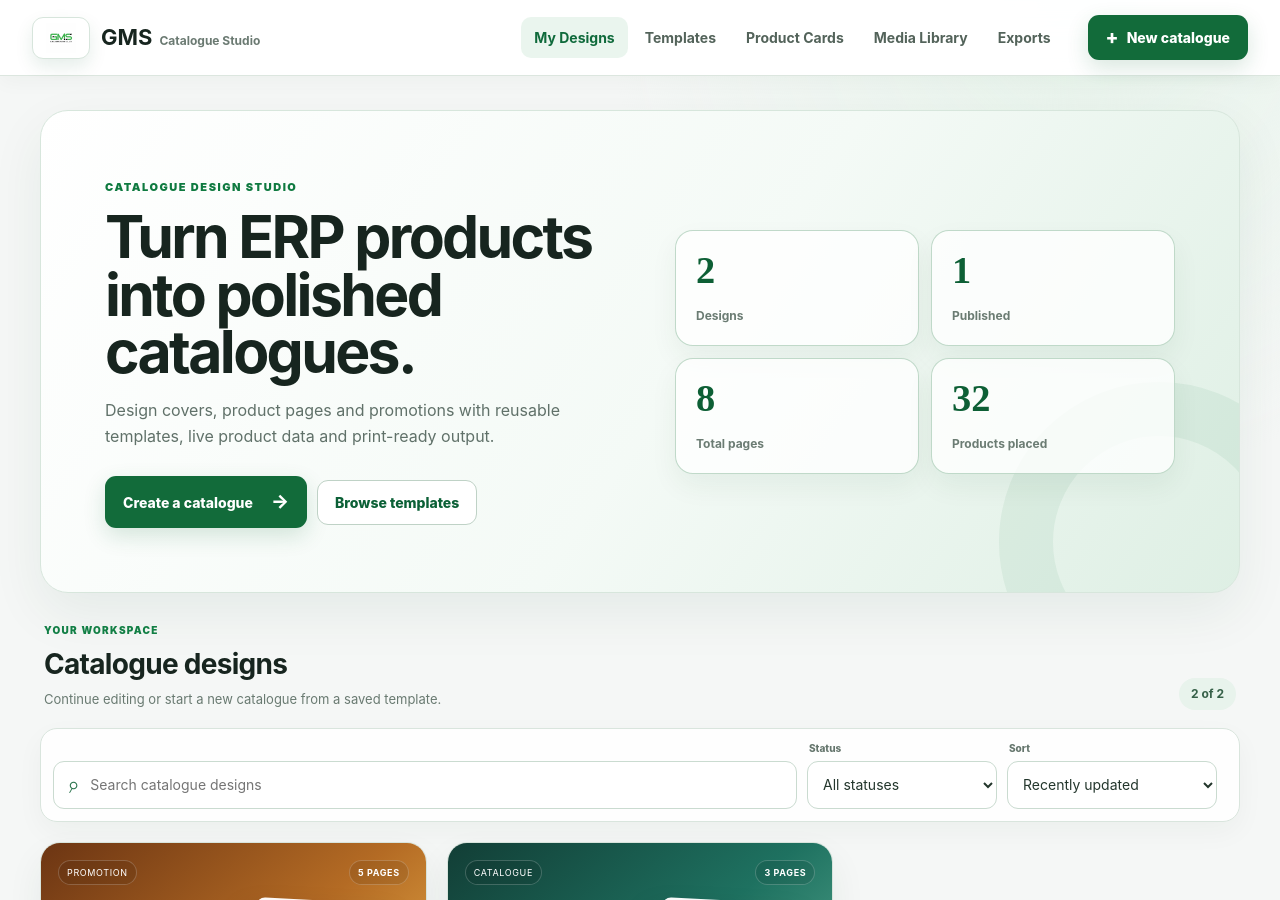
Test: Catalogue Studio home › filters designs instantly by status and search
The width and height of the screenshot is (1280, 900).
Select "Published" in the dropdown named "Filter by status" at (902, 785), box [807, 761, 997, 809]
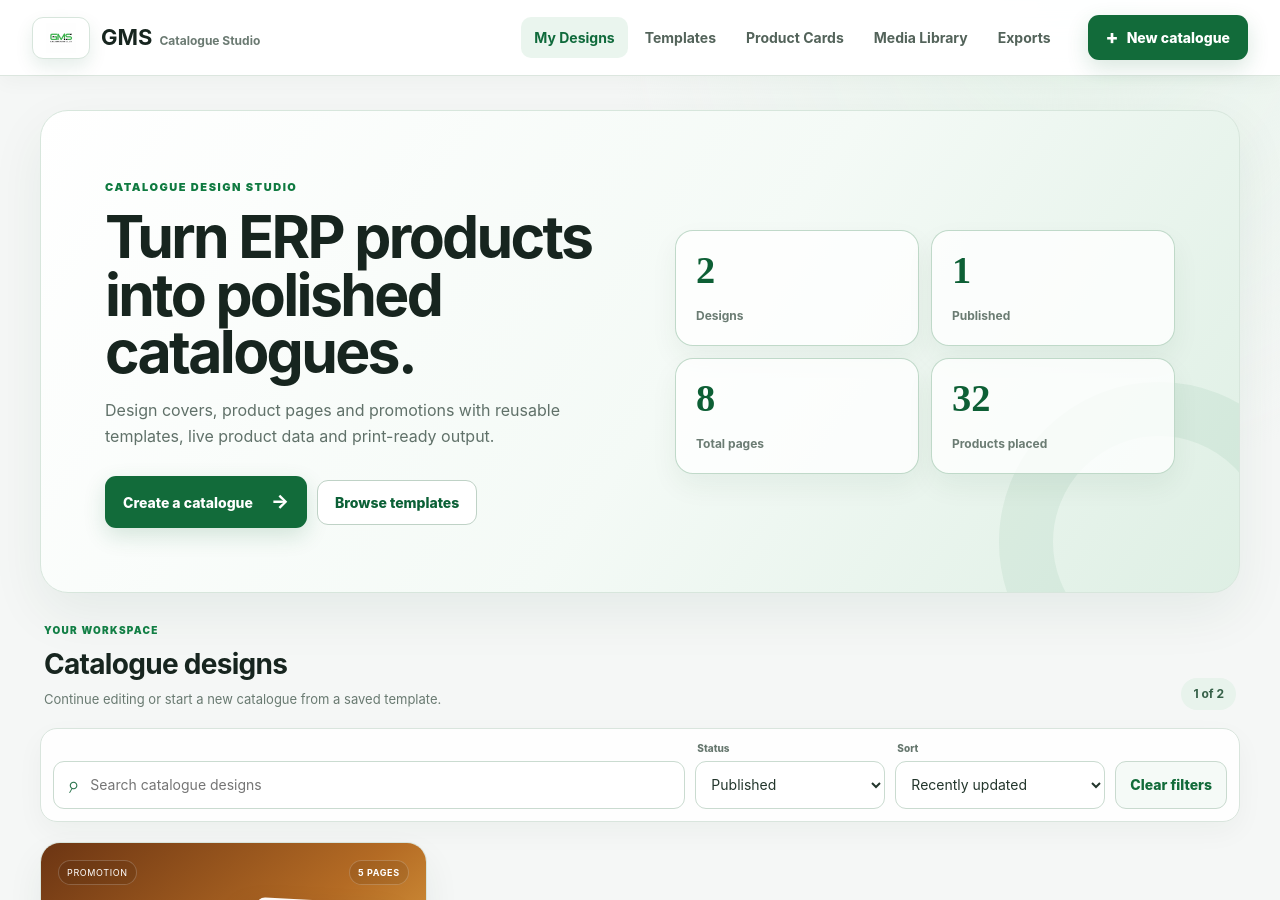
Type "missing" into the search field named "Search designs" at (375, 785), box [88, 773, 662, 796]
(page scrolled)
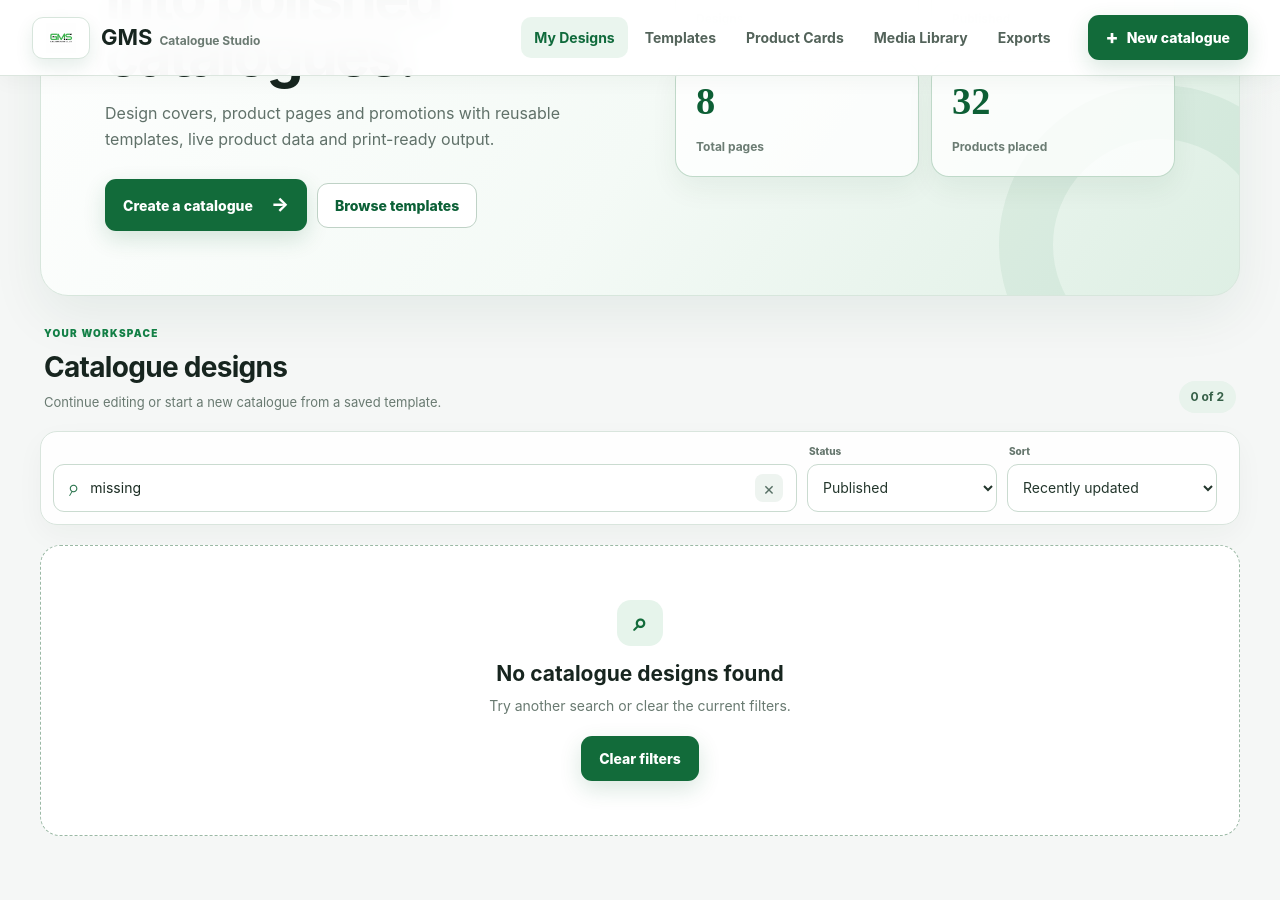
expect the heading "No catalogue designs found" is shown: met, box [496, 661, 784, 686]
Click the button "Clear filters" at (640, 759), box [581, 736, 699, 781]
(page scrolled)
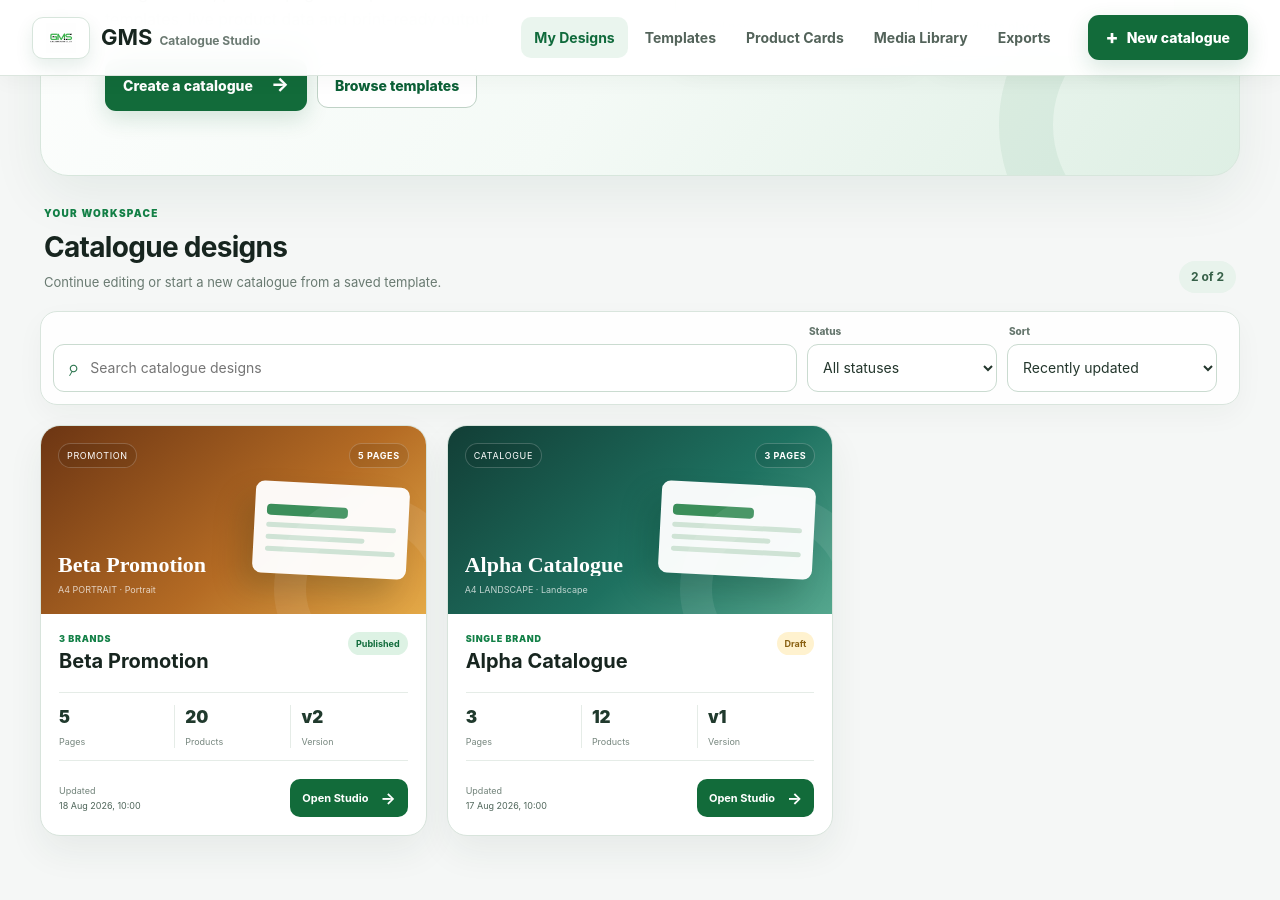
expect the link with aria-label "Open Alpha Catalogue in Studio" is shown: met, box [447, 425, 833, 836]
expect the link with aria-label "Open Beta Promotion in Studio" is shown: met, box [40, 425, 427, 836]
